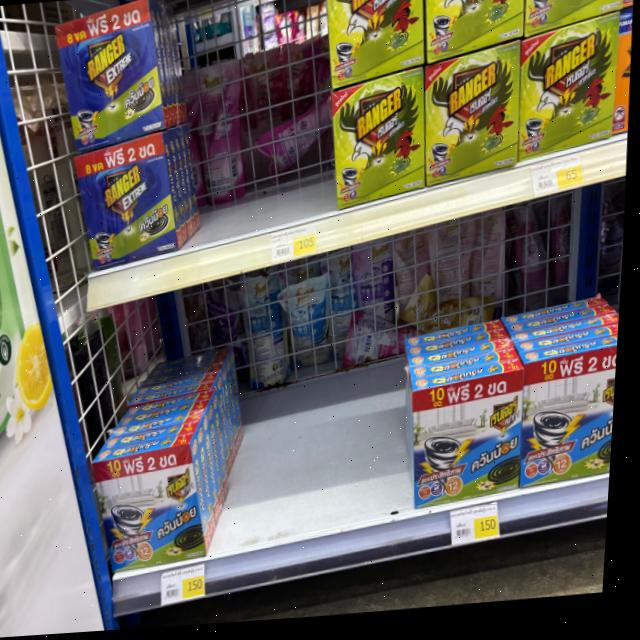empty_shelf: (207, 241, 415, 559), (404, 180, 625, 389), (160, 0, 337, 246), (84, 284, 211, 459)
